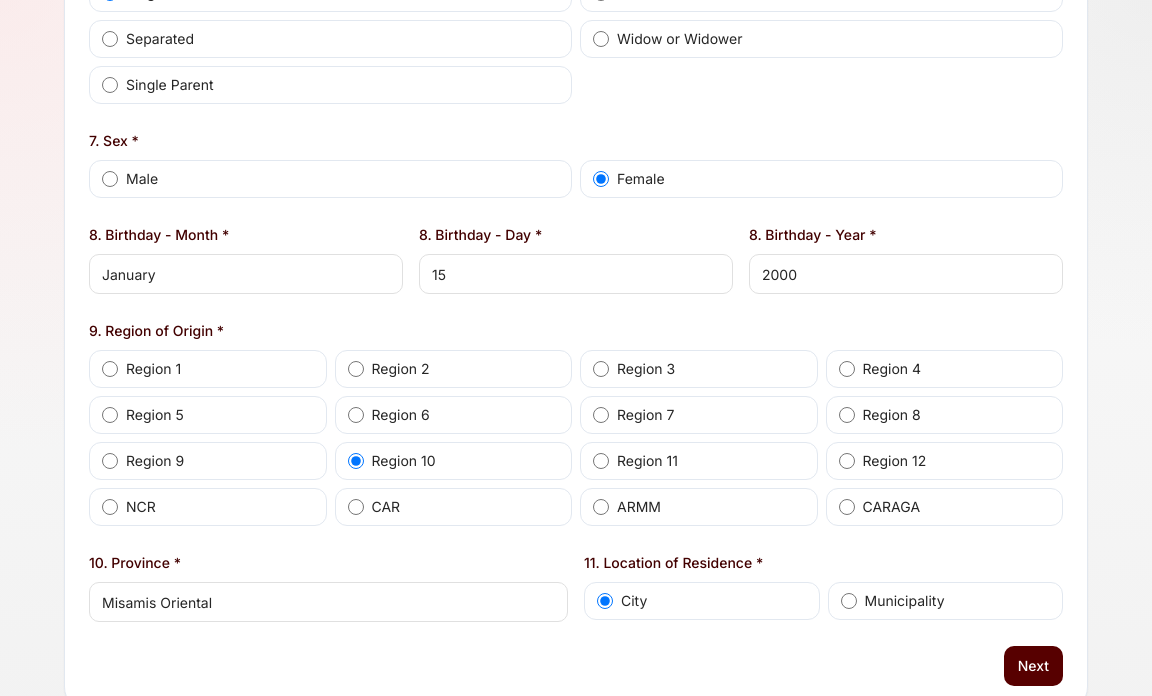
Test: Graduate Tracer API form behavior › displays client validation messages beside invalid Section A fields
(page scrolled)
Click the button "Next" at (1033, 666), box [1004, 646, 1063, 686]
(page scrolled)
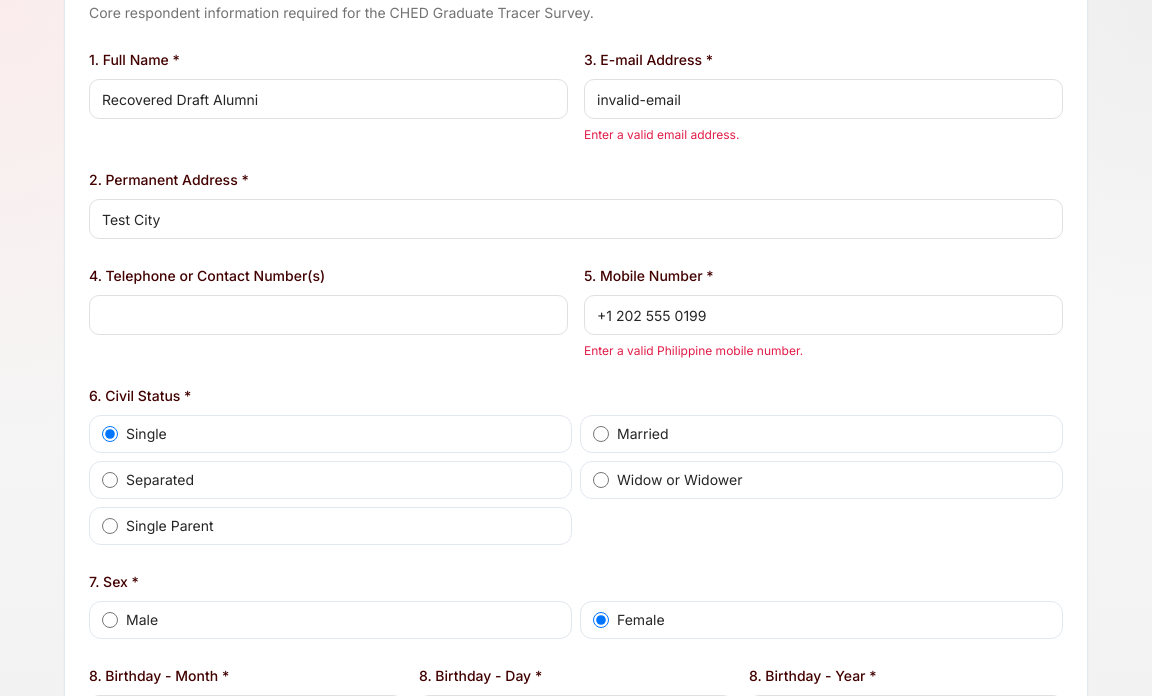
Result: the text "Enter a valid email address." is shown at [584, 127, 739, 142]
Result: the text "Enter a valid Philippine mobile number." is shown at [584, 343, 803, 358]
